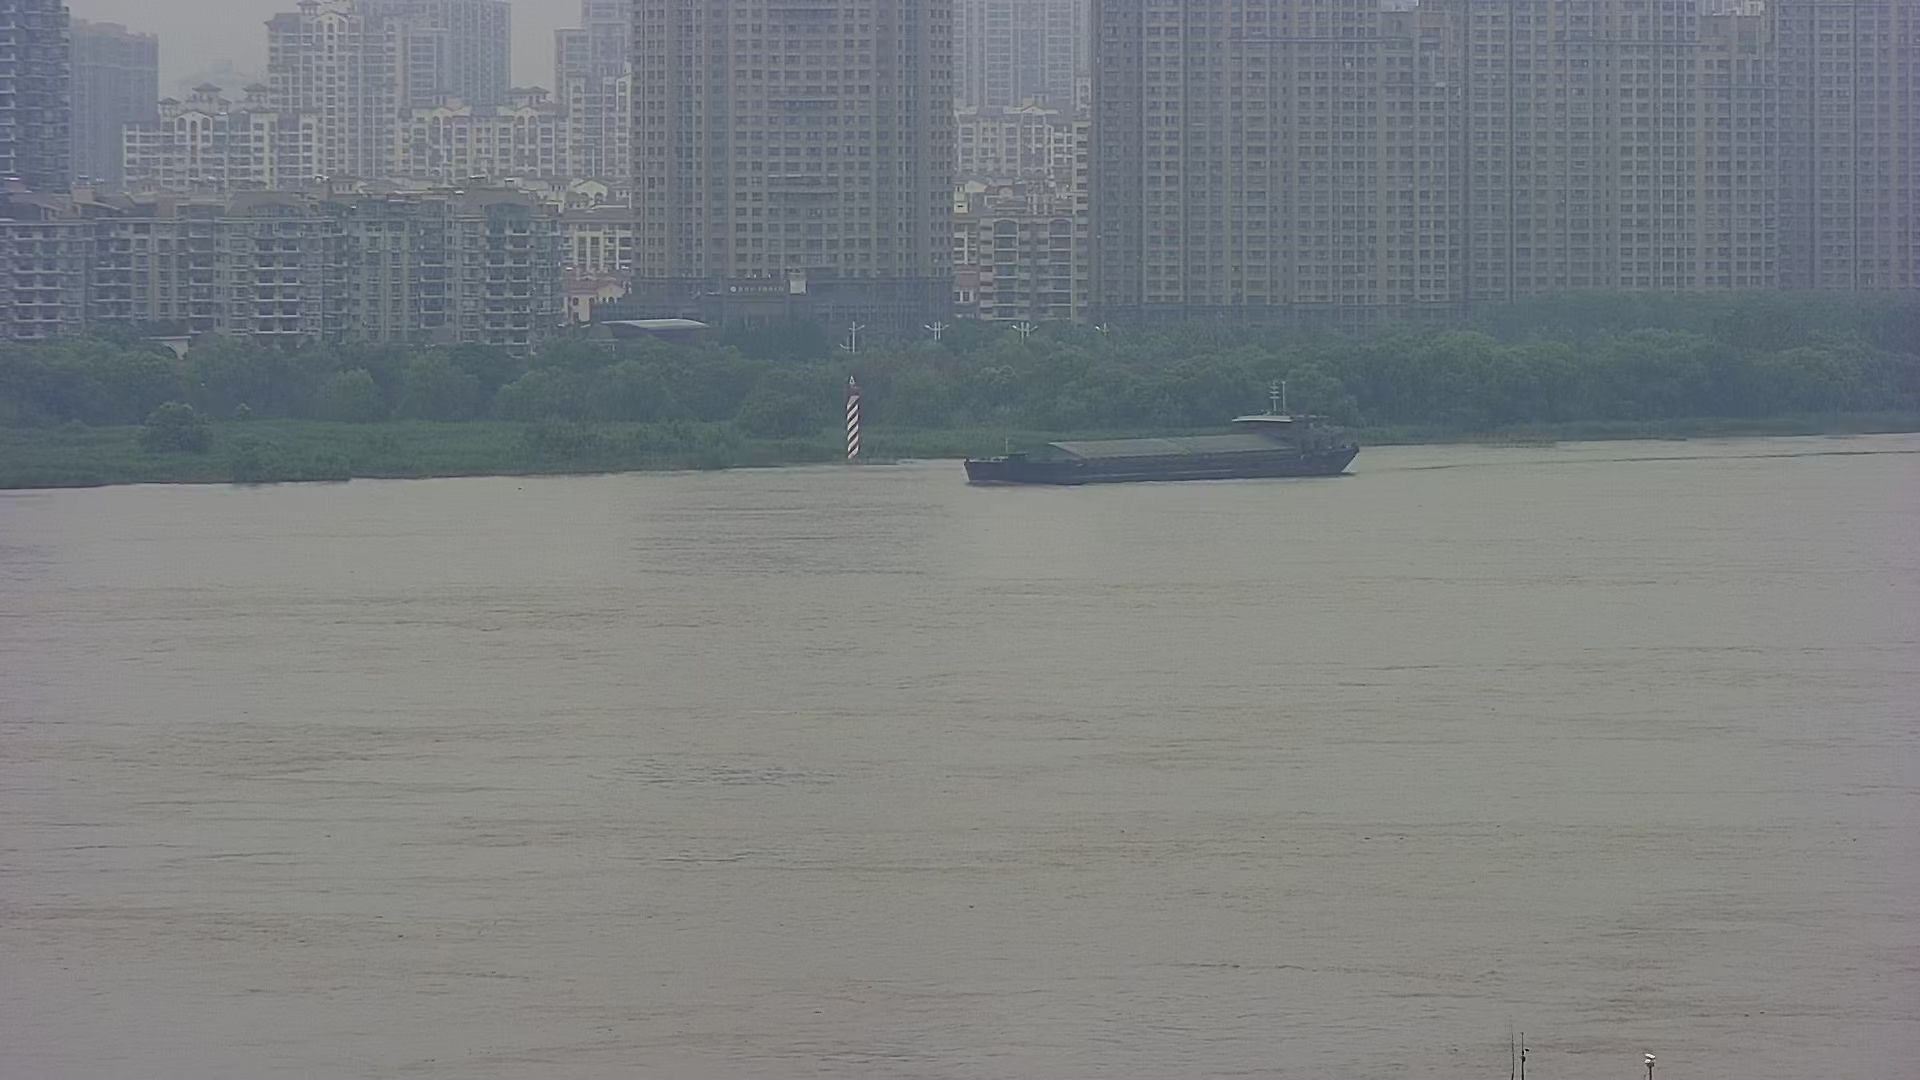ship: (948, 392, 1386, 498)
